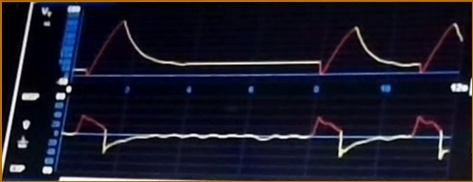Flow: (68, 110, 449, 170)
Leakage Volume: (81, 16, 463, 82)
